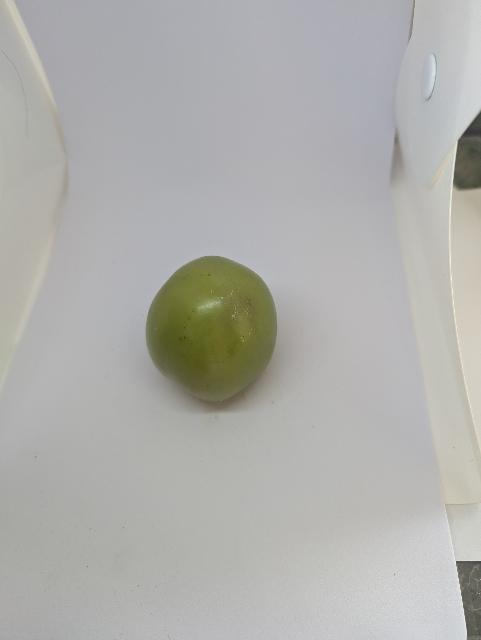green: (124, 249, 296, 413)
